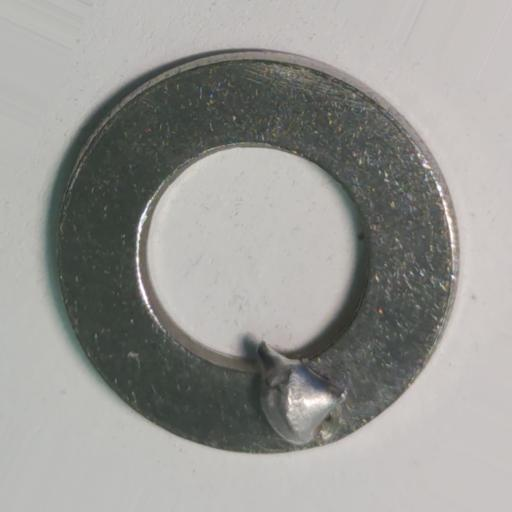excess_material: (254, 340, 348, 446)
